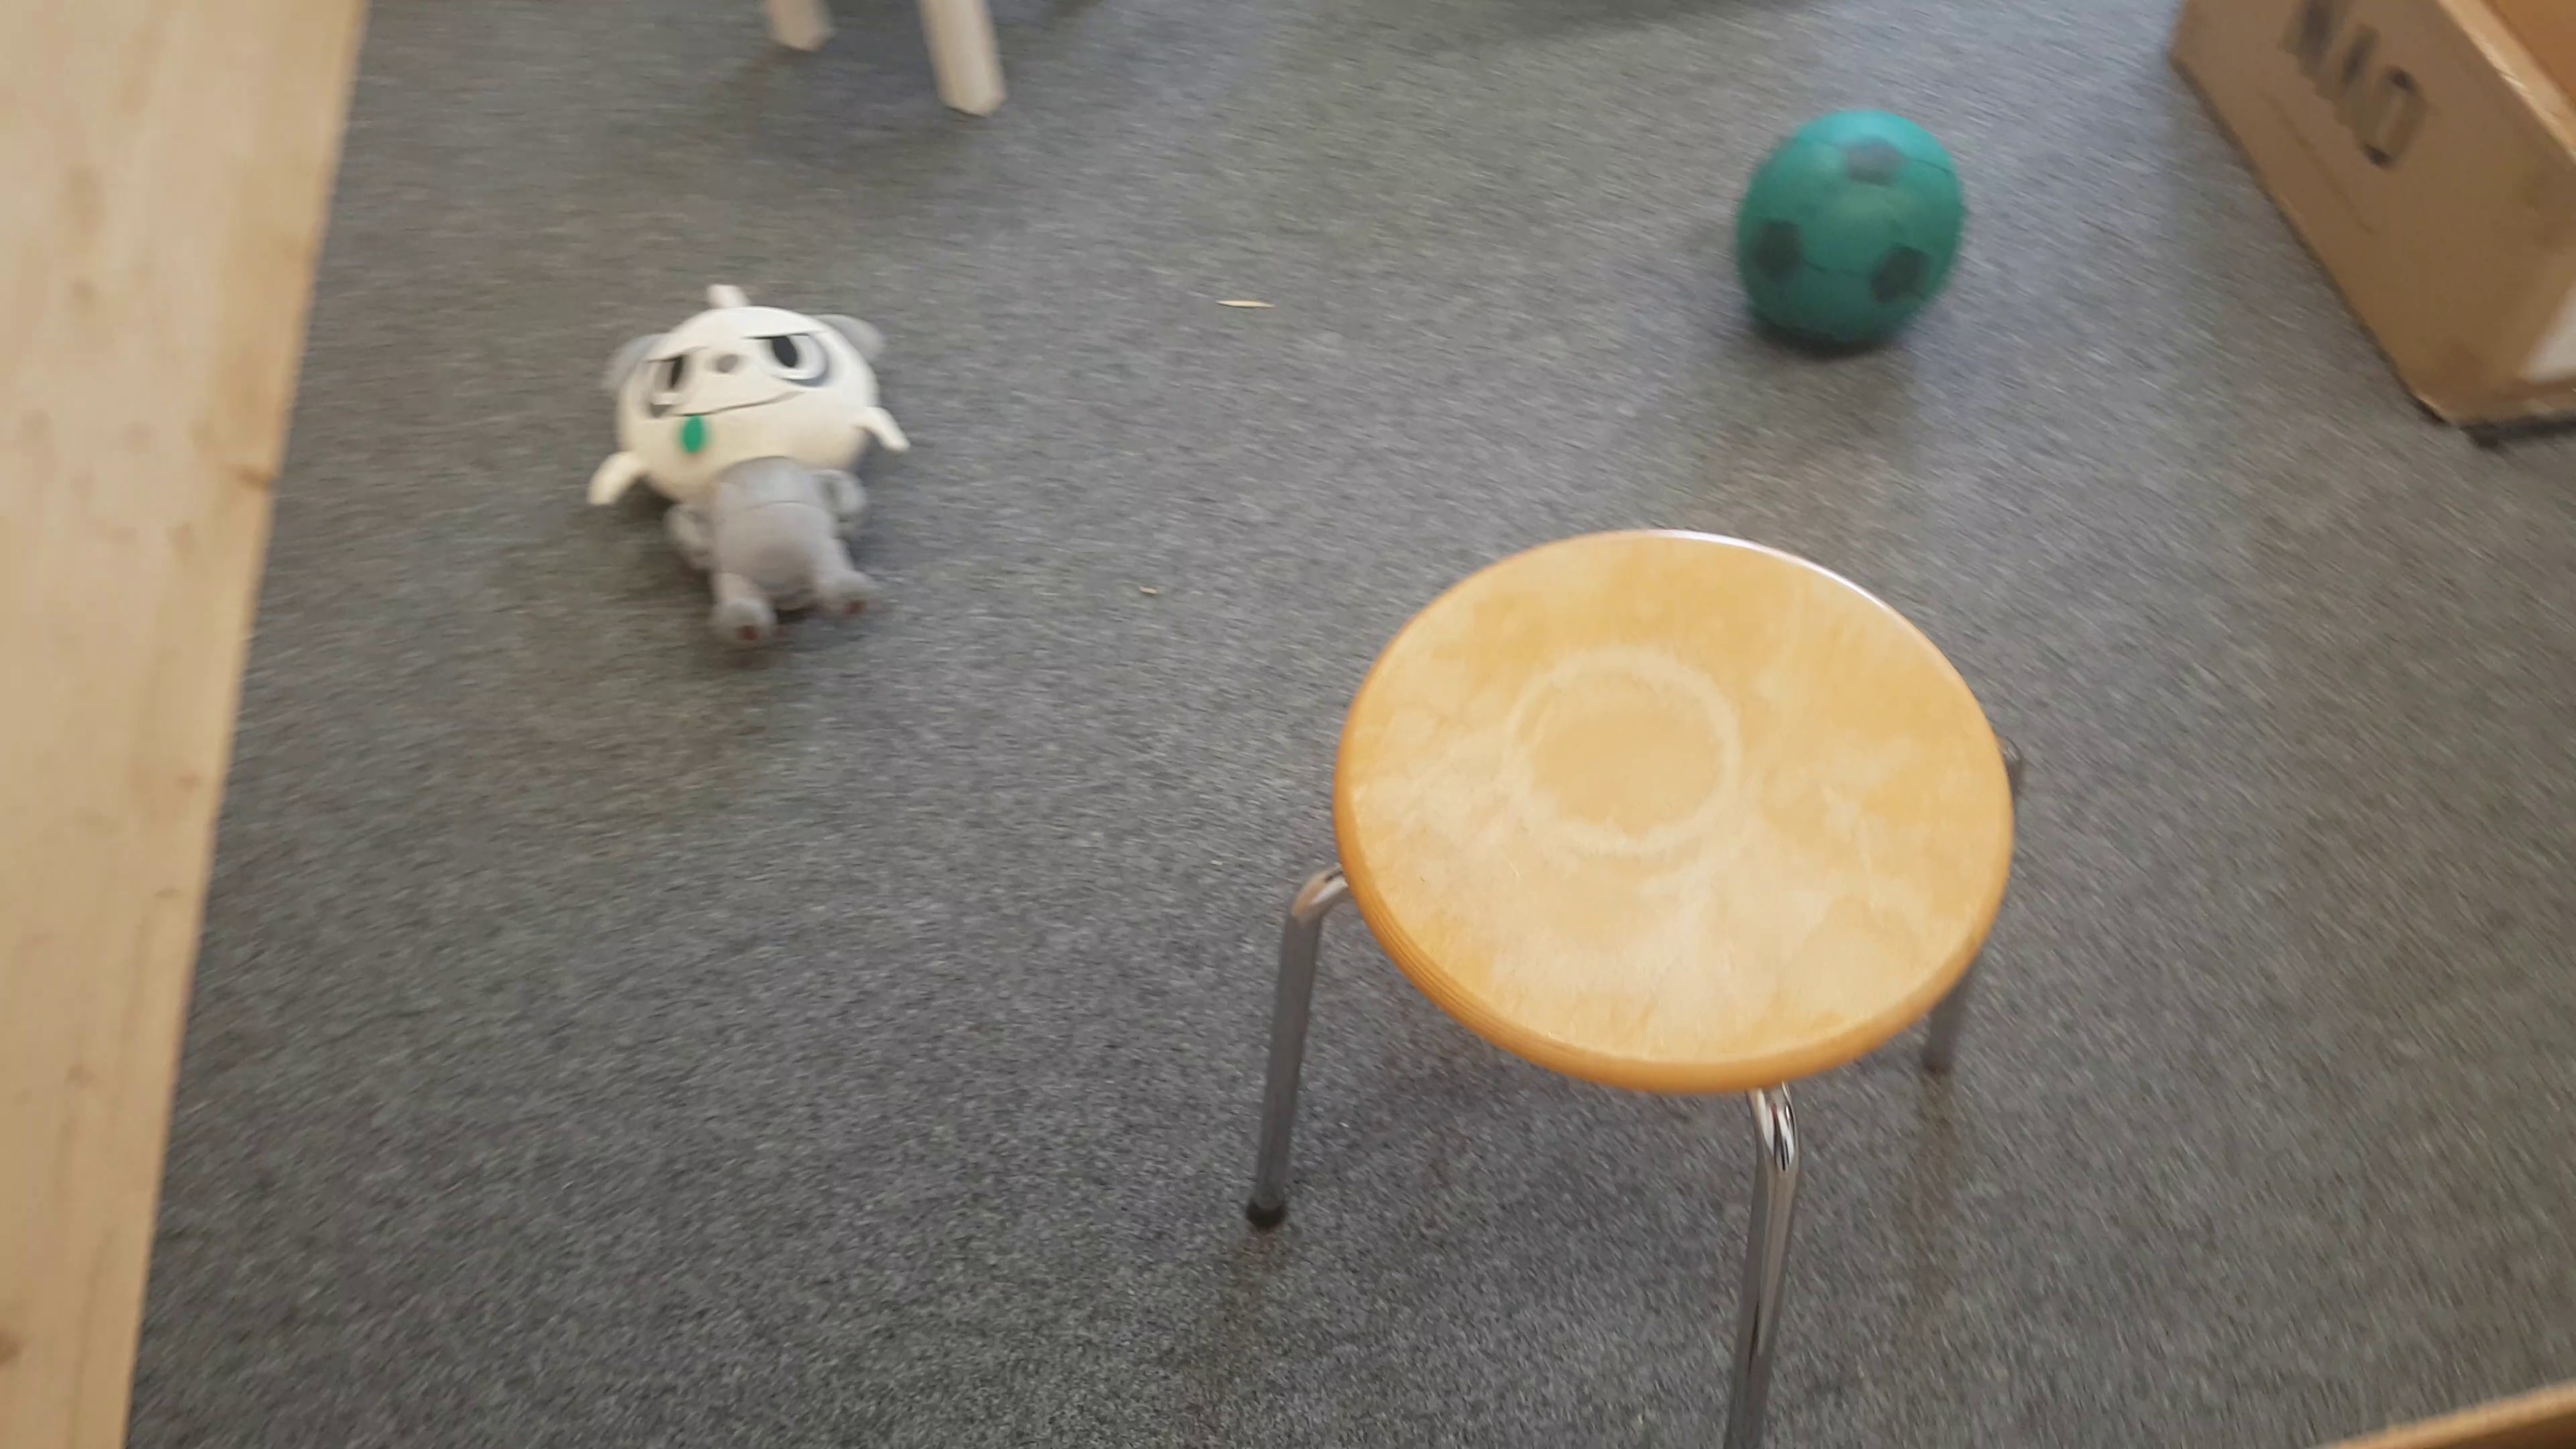grasp: (582, 278, 911, 644)
kick: (1737, 113, 1967, 356)
